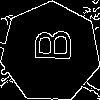B: (25, 27, 72, 62)
